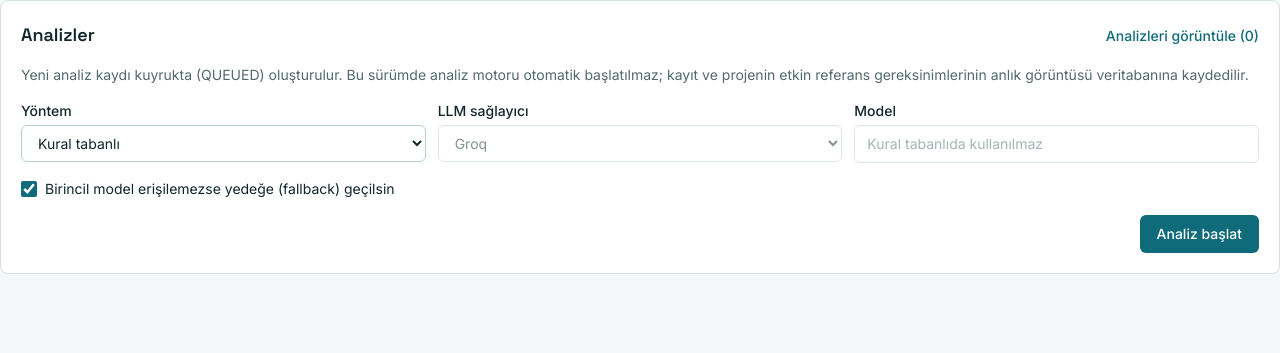
gönderim sürerken çift tıklama ikinci kayıt oluşturmaz
The width and height of the screenshot is (1280, 353).
Click the button "Analiz başlat".
click(1199, 234)  # box left=1140, top=215, right=1259, bottom=253
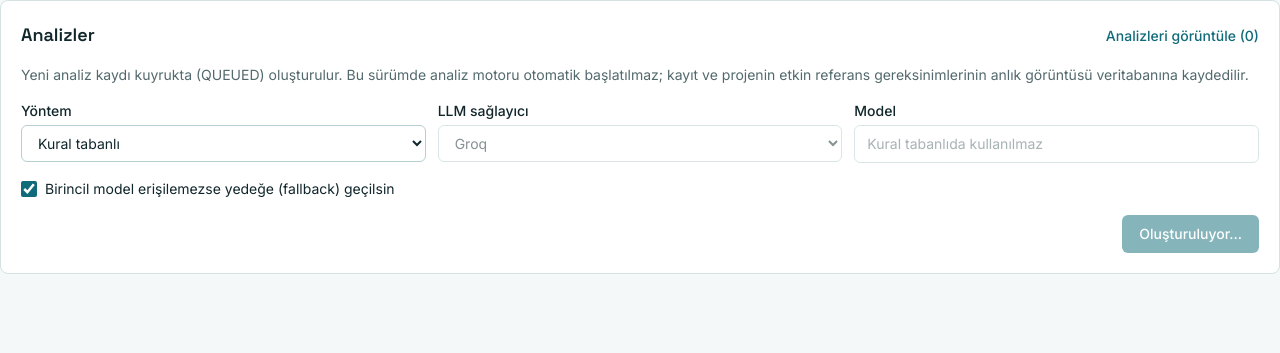
expect the button "Oluşturuluyor…" is disabled: met
Click the button "Oluşturuluyor…".
click(1191, 234)  # box left=1122, top=215, right=1259, bottom=253
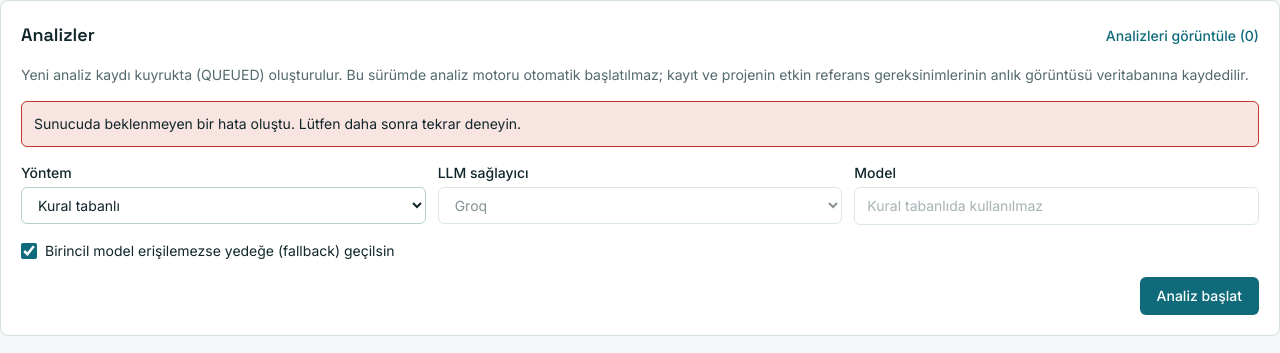
expect the message shows "beklenmeyen": met, box left=34, top=115, right=521, bottom=132
